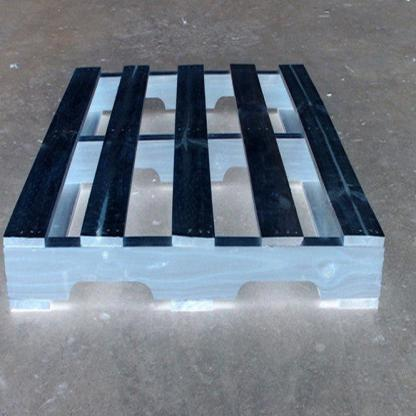BoxFace: (2, 62, 384, 310)
